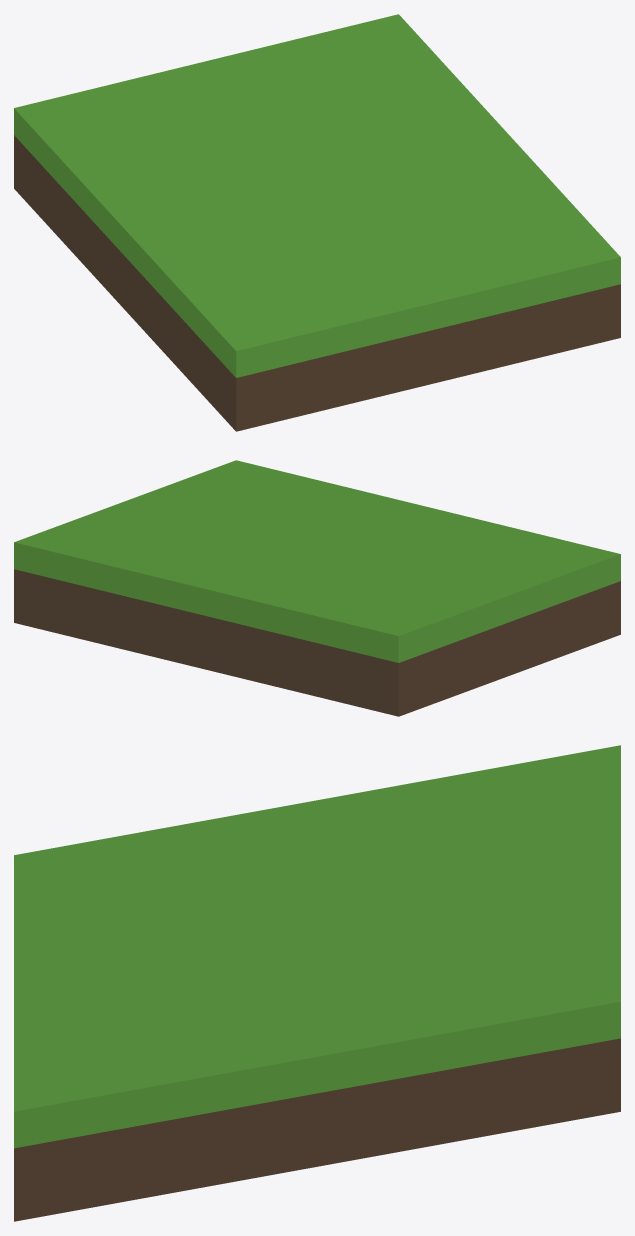
The model's file is tile-hill.glb.
3 renders of one model, top to bottom at view 1: azimuth 30°, elevation 25°; view 2: azimuth 150°, elevation 25°; view 3: azimuth 270°, elevation 25°, orthographic. The views are drawn at different scales.
Visible parts, largest first — view 1: tile-hill; view 2: tile-hill; view 3: tile-hill.
Boxes of the visible parts, x1,y1,x2,y2 form: tile-hill: [14, 14, 620, 431]; tile-hill: [14, 460, 620, 716]; tile-hill: [14, 745, 620, 1221].
Size of the model in its own units: 30 by 12 by 30.
Materials: 1 (1 with a texture image).
